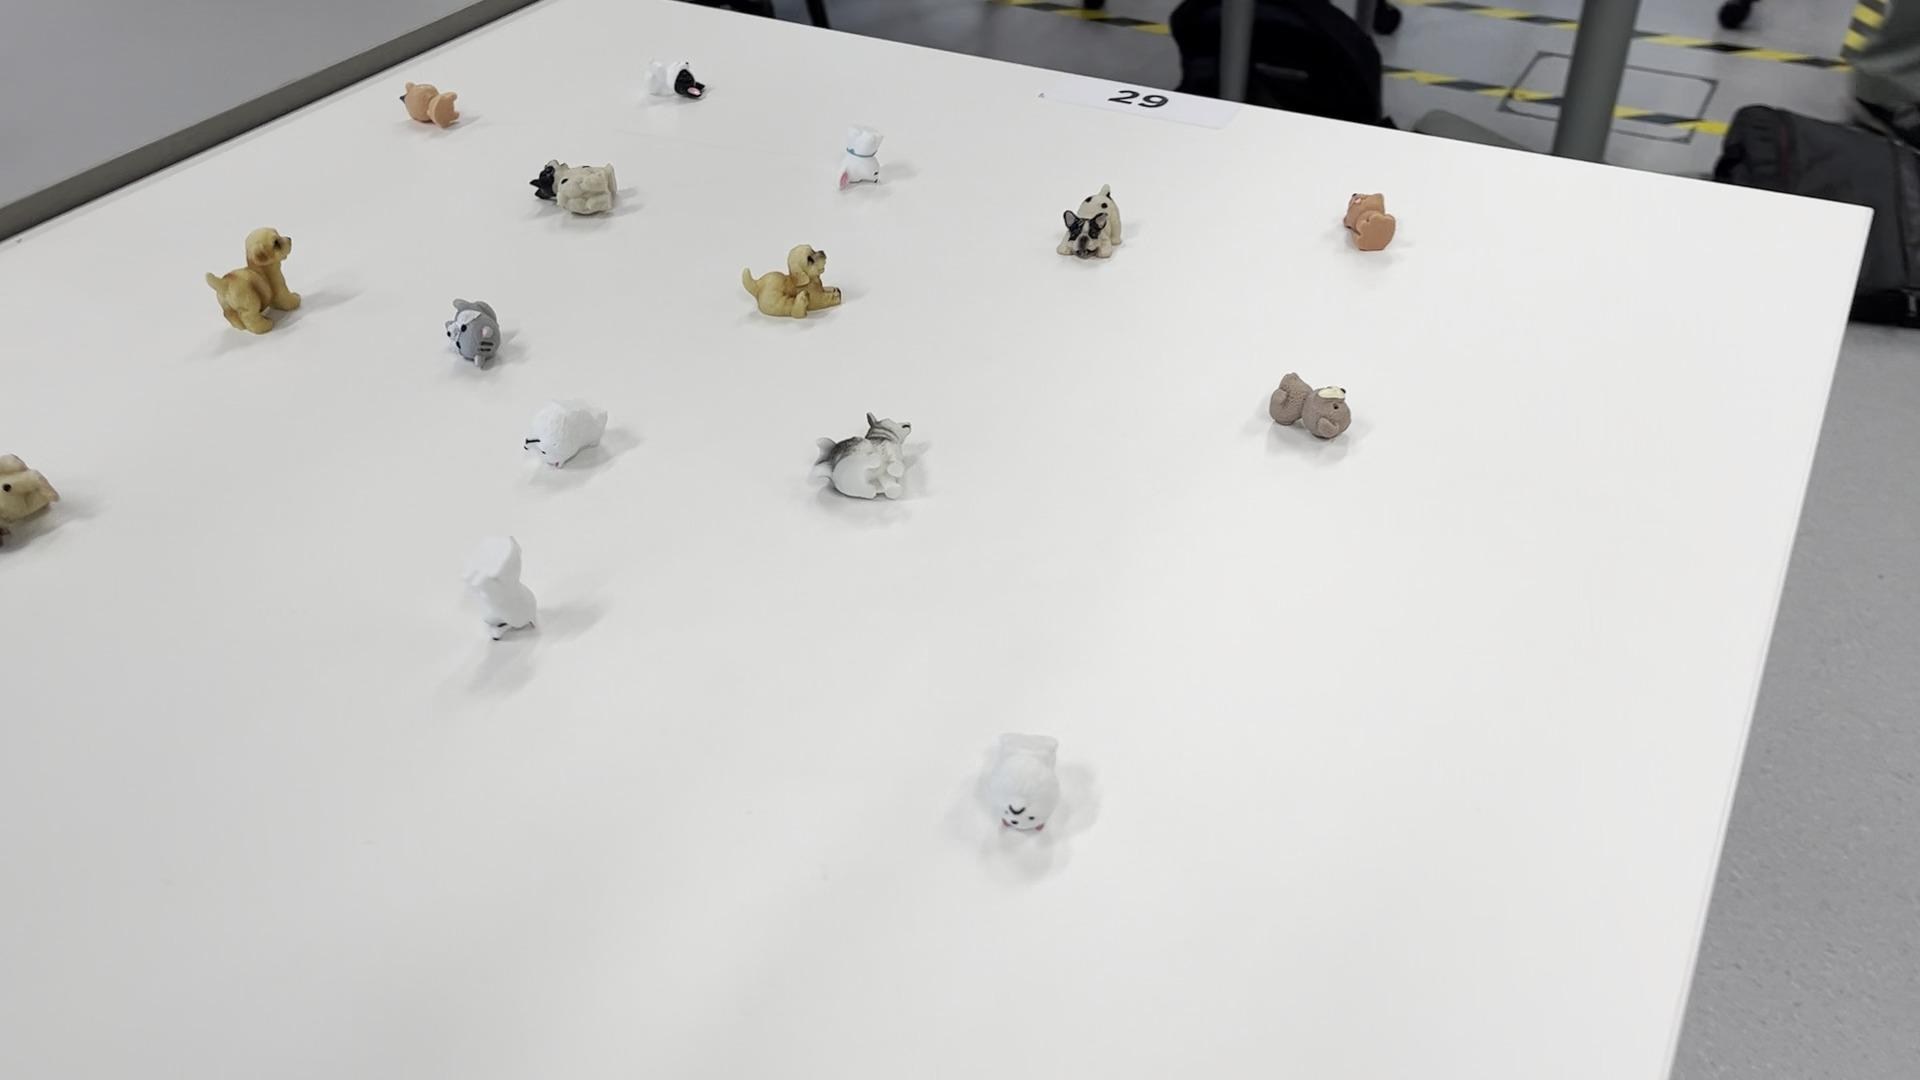pet: (957, 716, 1065, 868), (208, 223, 306, 361), (808, 402, 927, 509), (735, 229, 849, 331), (464, 533, 553, 649), (0, 413, 65, 559), (1258, 365, 1365, 446), (527, 149, 622, 228), (527, 389, 601, 480), (1058, 175, 1129, 266), (835, 109, 891, 222), (435, 289, 502, 380), (401, 75, 472, 153), (1345, 175, 1396, 269), (654, 62, 721, 117)
